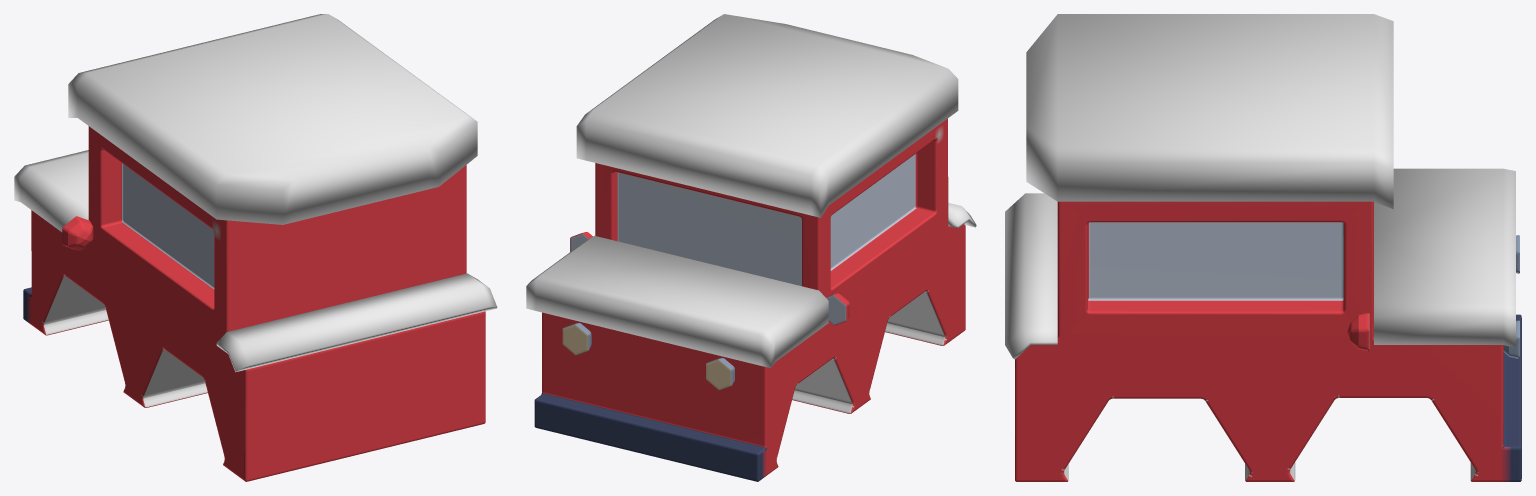
The model's file is car.glb.
3 renders of one model, left to right at view 1: azimuth 30°, elevation 25°; view 2: azimuth 150°, elevation 25°; view 3: azimuth 270°, elevation 25°, orthographic. The views are drawn at different scales.
Parts seen in each view (by area): view 1: Car, Car_Plate; view 2: Car, Car_Plate; view 3: Car_Plate, Car.
Part boxes in pixels (box(x1,y1,x2,y2)): Car: box(23, 126, 485, 481); Car_Plate: box(14, 14, 497, 372); Car: box(534, 118, 965, 481); Car_Plate: box(526, 14, 976, 368); Car_Plate: box(1005, 14, 1515, 359); Car: box(1015, 201, 1521, 481).
Size of the model in its own units: 1.24 by 1.17 by 1.63.
Materials: 1 (1 with a texture image).
